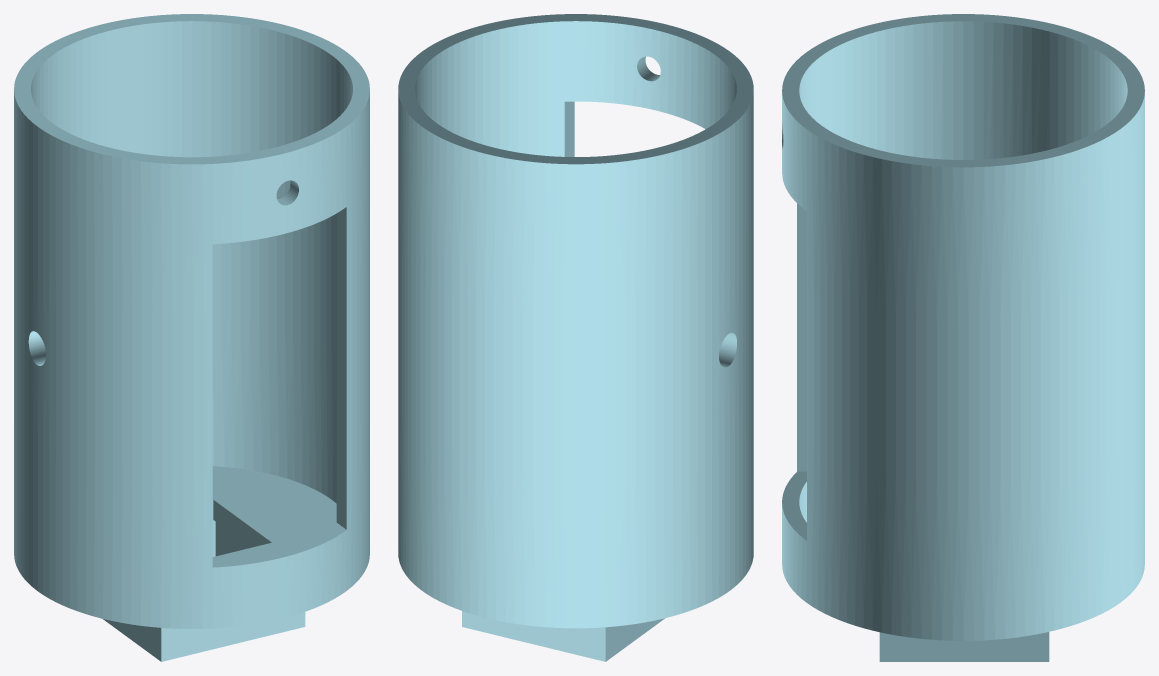
Rendered from pin and cane assembly v11.gltf.
3 views of the same model, side by side, from view 1: azimuth 30°, elevation 25°; view 2: azimuth 150°, elevation 25°; view 3: azimuth 270°, elevation 25° (orthographic). The views are drawn at different scales.
Visible parts, largest first — view 1: Node1; view 2: Node1; view 3: Node1.
Boxes of the visible parts, x1,y1,x2,y2 form: Node1: (14,14,369,661); Node1: (398,14,753,661); Node1: (782,14,1144,661).
Bounding box in the file's own units: 79.85 × 130 × 79.85.
